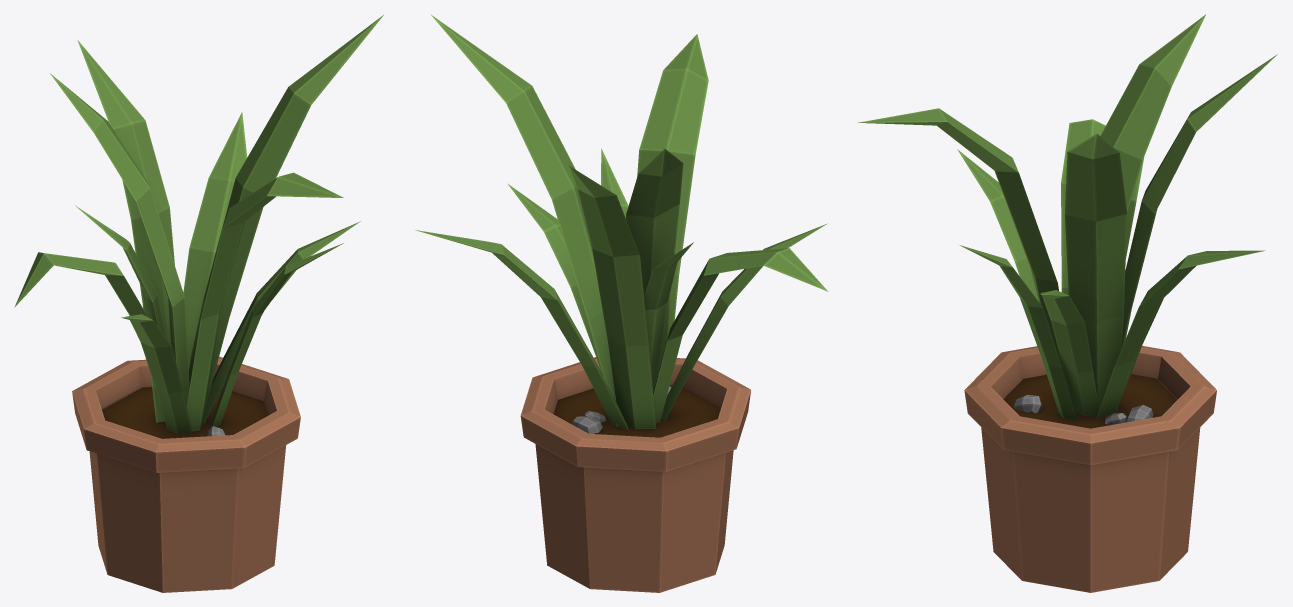
Rendered from marigold.512.glb.
3 renders of one model, left to right at view 1: azimuth 30°, elevation 25°; view 2: azimuth 150°, elevation 25°; view 3: azimuth 270°, elevation 25°, orthographic. The views are drawn at different scales.
Visible parts, largest first — view 1: Houseplant_mesh; view 2: Houseplant_mesh; view 3: Houseplant_mesh.
Boxes of the visible parts, x1,y1,x2,y2 form: Houseplant_mesh: (14,15,383,592); Houseplant_mesh: (415,15,828,592); Houseplant_mesh: (857,14,1277,592).
Size of the model in its own units: 4.85 by 5.93 by 4.34.
1 material, 1 textured.
